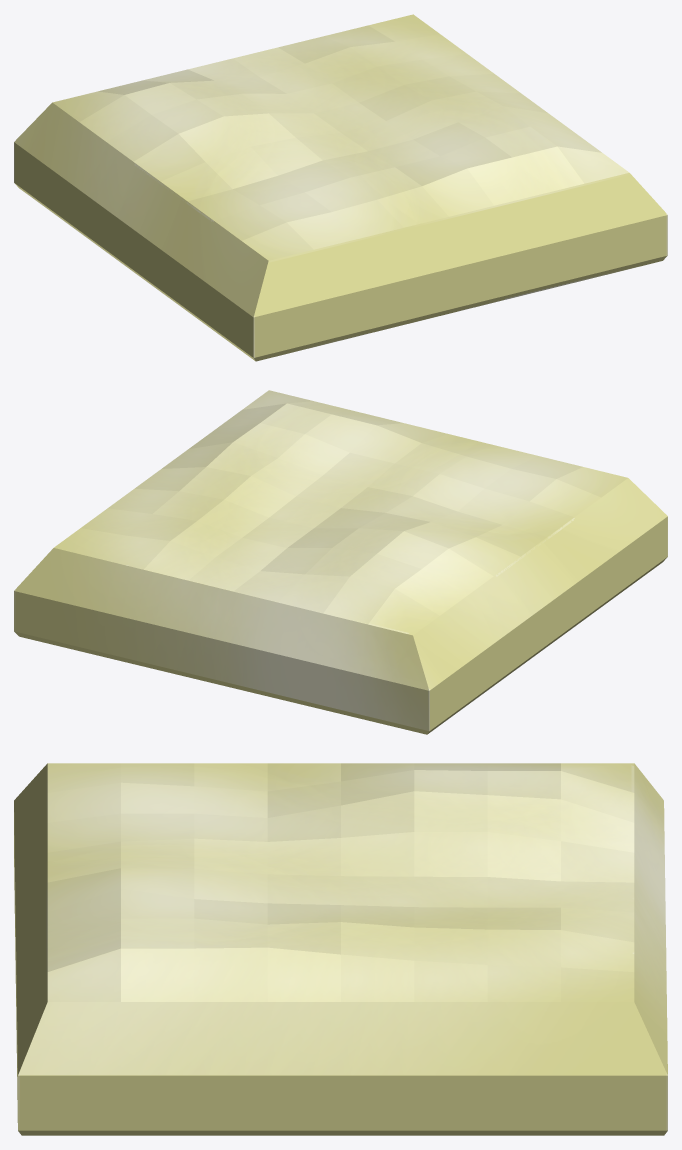
File: sand_sqr.glb
The picture shows the model from 3 angles, top to bottom: view 1: azimuth 30°, elevation 25°; view 2: azimuth 150°, elevation 25°; view 3: azimuth 270°, elevation 25°; orthographic projection. The views are drawn at different scales.
Visible parts, largest first — view 1: Cylinder; view 2: Cylinder; view 3: Cylinder.
Part boxes in pixels (x1,y1,x2,y2): Cylinder: (14, 14, 667, 361); Cylinder: (14, 390, 667, 734); Cylinder: (14, 763, 667, 1135).
Bounding box in the file's own units: 1 × 0.2536 × 1.
Materials: 1 (1 with a texture image).
